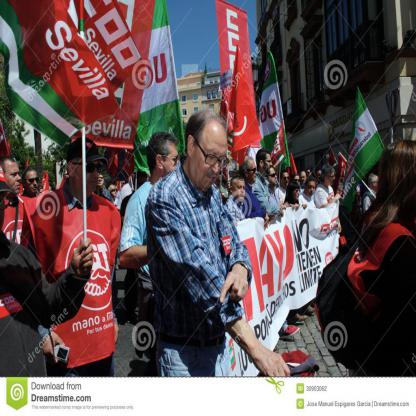face: (195, 125, 228, 189), (76, 155, 99, 192), (164, 146, 179, 179), (6, 163, 21, 194), (26, 172, 39, 193), (235, 180, 246, 202), (248, 161, 257, 182), (265, 156, 273, 176), (268, 170, 278, 185), (308, 182, 317, 197), (137, 178, 147, 191), (282, 174, 290, 186), (329, 174, 336, 186), (374, 177, 380, 191), (294, 189, 300, 200), (295, 177, 301, 187), (301, 174, 306, 185), (112, 188, 118, 197), (121, 180, 127, 187), (41, 190, 46, 198), (307, 170, 311, 179), (228, 180, 231, 188)
